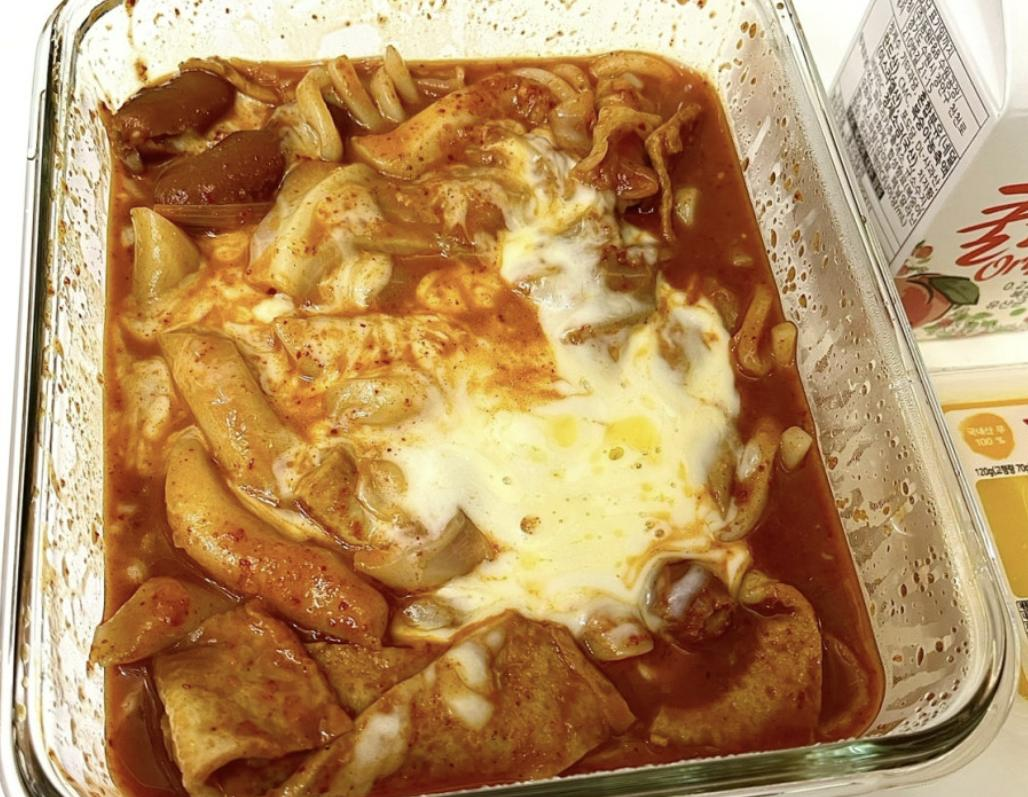Lunch Box: (0, 0, 1017, 796)
